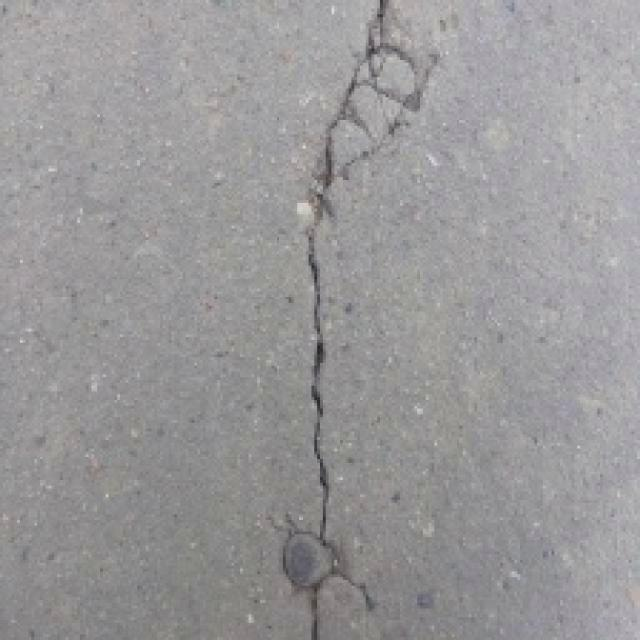SurfaceCrack: (250, 0, 442, 640)
